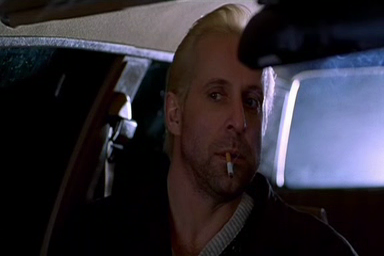cu: (1, 1, 384, 256)
face: (188, 52, 266, 201)
person: (45, 2, 358, 256)
